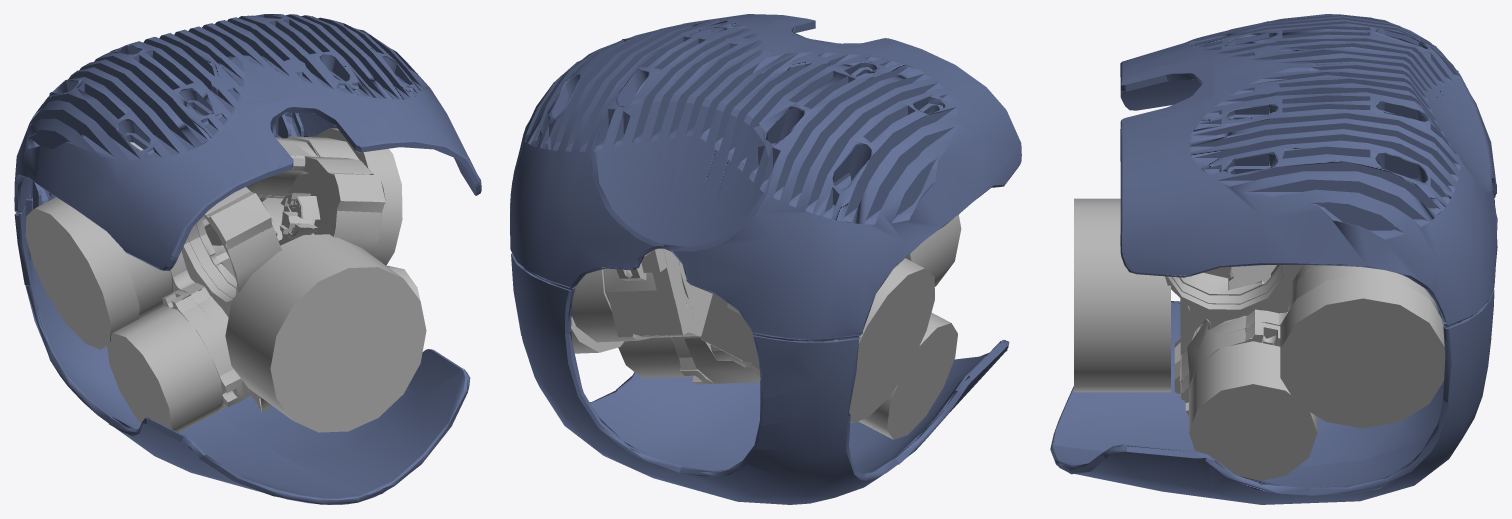
Rendered from icub_chest.glb.
3 views of the same model, side by side, from view 1: azimuth 30°, elevation 25°; view 2: azimuth 150°, elevation 25°; view 3: azimuth 270°, elevation 25° (orthographic). The views are drawn at different scales.
Visible parts, largest first — view 1: torso_mesh.002, chest_cylinder_mesh, torso_mesh.001, torso_mesh; view 2: torso_mesh.002, torso_mesh.001, torso_mesh, chest_cylinder_mesh; view 3: torso_mesh.002, torso_mesh.001, chest_cylinder_mesh, torso_mesh.
Boxes of the visible parts, bbox=[...] form: torso_mesh.002: bbox=[14, 14, 481, 504]; chest_cylinder_mesh: bbox=[225, 234, 426, 432]; torso_mesh.001: bbox=[25, 128, 419, 432]; torso_mesh: bbox=[130, 109, 385, 411]; torso_mesh.002: bbox=[510, 14, 1021, 504]; torso_mesh.001: bbox=[571, 258, 957, 439]; torso_mesh: bbox=[603, 248, 760, 384]; chest_cylinder_mesh: bbox=[905, 214, 961, 286]; torso_mesh.002: bbox=[1050, 14, 1497, 504]; torso_mesh.001: bbox=[1189, 265, 1445, 480]; chest_cylinder_mesh: bbox=[1074, 198, 1170, 392]; torso_mesh: bbox=[1165, 187, 1454, 415].
Bounding box in the file's own units: 0.19 × 0.1868 × 0.1847.
